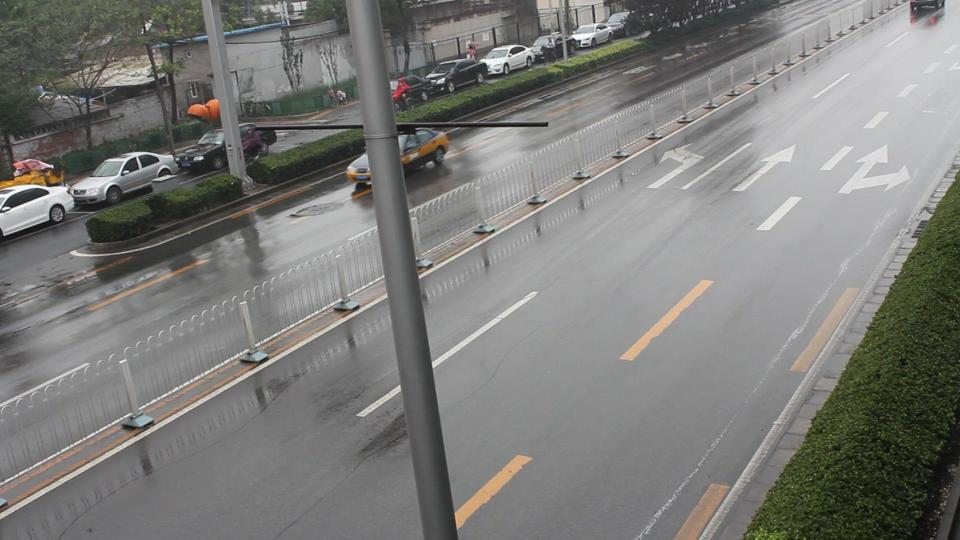Car: (341, 120, 452, 189)
